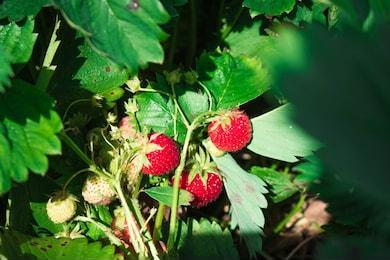Fresa: (173, 159, 223, 214), (133, 128, 183, 180), (207, 105, 255, 155)
